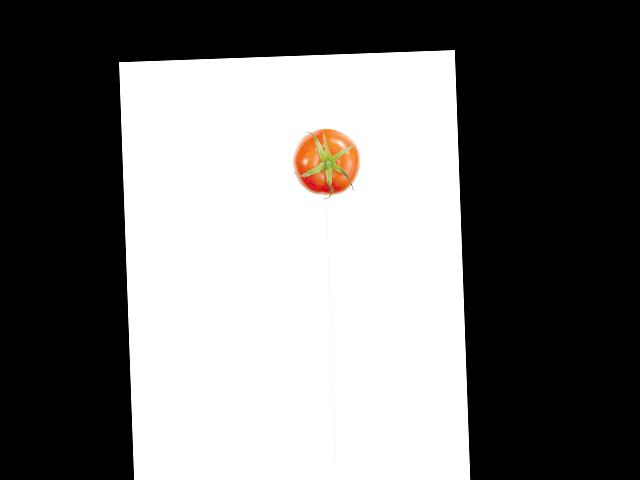tomato: (291, 126, 360, 196)
